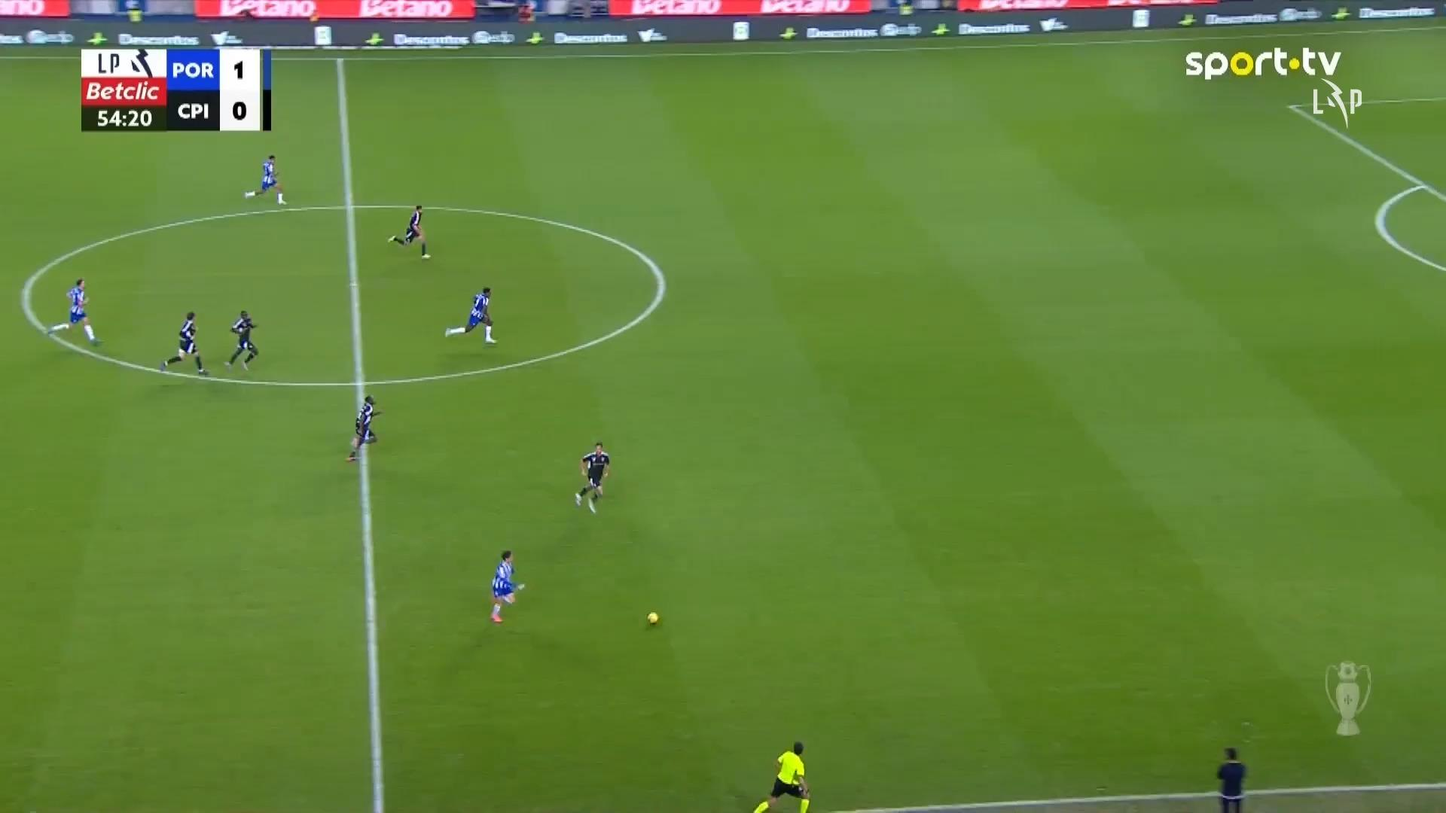ball: (646, 611, 658, 624)
player: (46, 277, 101, 346), (157, 310, 209, 376), (444, 286, 497, 344), (573, 441, 611, 513), (489, 550, 525, 623), (387, 203, 432, 259), (346, 394, 381, 461), (243, 154, 286, 206), (224, 309, 259, 371)
referee: (752, 740, 811, 812), (1216, 746, 1247, 811)
